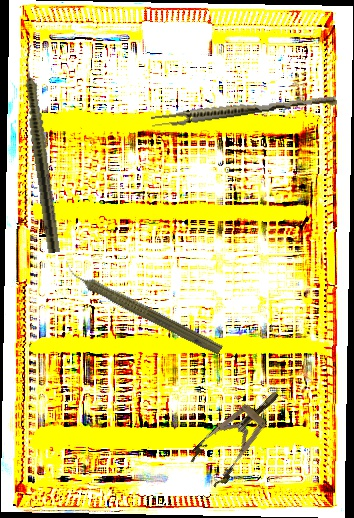Handpiece: (57, 258, 227, 359), (18, 44, 63, 254)
Speculum: (184, 377, 295, 492)
Tissue Forceps: (150, 89, 338, 131)
